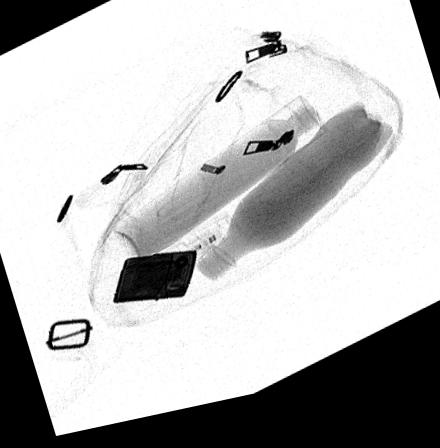Lighter: (112, 256, 196, 307)
